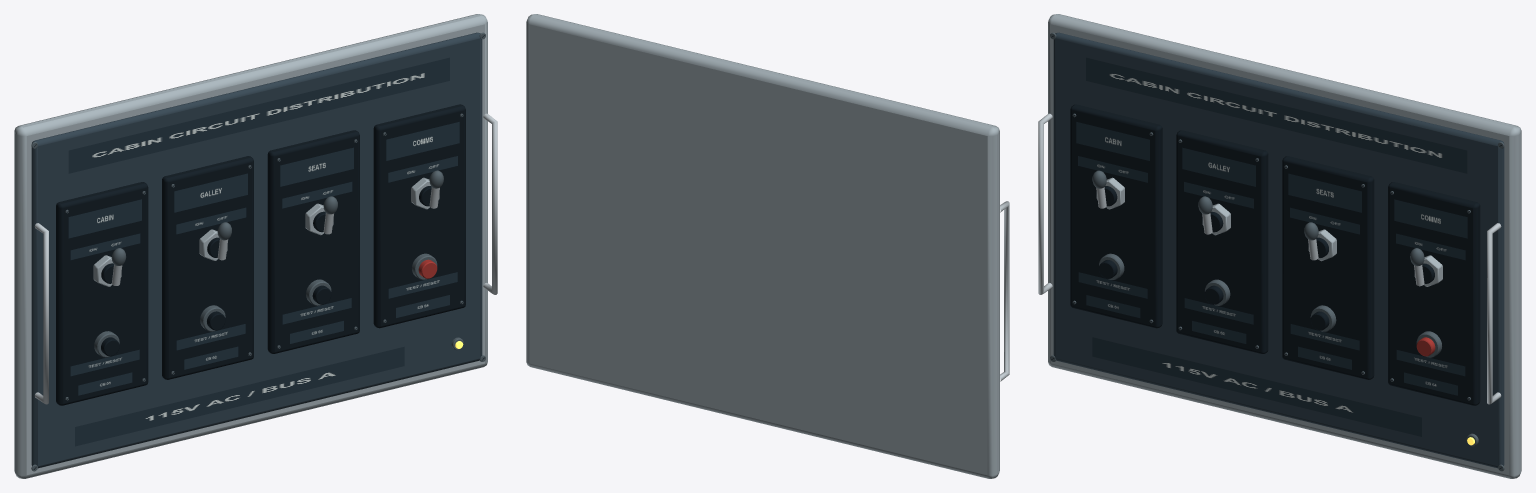
File: electrical.glb
The picture shows the model from 3 angles, left to right: view 1: azimuth 30°, elevation 25°; view 2: azimuth 150°, elevation 25°; view 3: azimuth 330°, elevation 25°; orthographic projection.
Parts seen in each view (by area): view 1: Static / Rubber seals.005, Static / Instrument panel.002, Static / Embedded instrument / placard atlas.005, Static / Brushed aluminum.003, Static / Polished steel.004, Static / Gunmetal fasteners.005; view 2: Static / Brushed aluminum.003, Static / Polished steel.004; view 3: Static / Rubber seals.005, Static / Instrument panel.002, Static / Embedded instrument / placard atlas.005, Static / Brushed aluminum.003, Static / Polished steel.004, Static / Gunmetal fasteners.005.
Boxes of the visible parts, box(x1,y1,x2,y2) form: Static / Rubber seals.005: box(33, 35, 484, 469); Static / Instrument panel.002: box(31, 32, 482, 468); Static / Embedded instrument / placard atlas.005: box(68, 57, 459, 446); Static / Brushed aluminum.003: box(14, 14, 487, 478); Static / Polished steel.004: box(34, 113, 497, 404); Static / Gunmetal fasteners.005: box(31, 32, 485, 471); Static / Brushed aluminum.003: box(526, 14, 999, 478); Static / Polished steel.004: box(1000, 201, 1009, 381); Static / Rubber seals.005: box(1051, 35, 1502, 469); Static / Instrument panel.002: box(1053, 32, 1504, 468); Static / Embedded instrument / placard atlas.005: box(1076, 57, 1467, 436); Static / Brushed aluminum.003: box(1048, 14, 1521, 478); Static / Polished steel.004: box(1038, 113, 1501, 404); Static / Gunmetal fasteners.005: box(1050, 32, 1504, 471).
Bounding box in the file's own units: 1.54 × 1.1 × 0.1968.
Materials: 8 (1 with a texture image).
